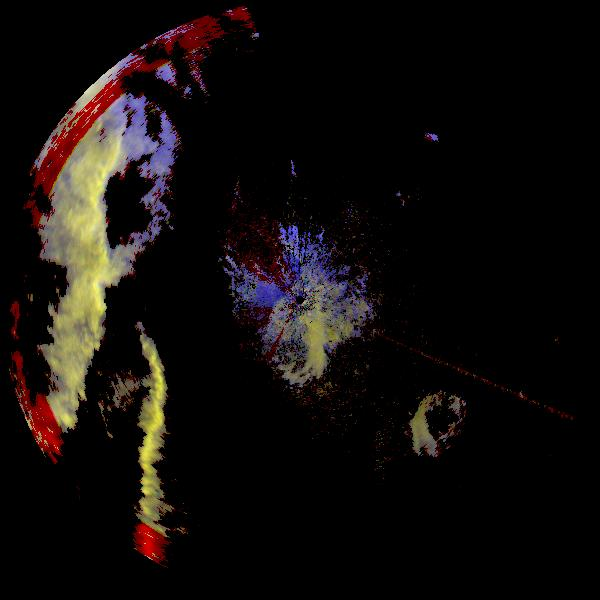roost: (335, 107, 527, 299), (242, 294, 353, 405), (401, 373, 509, 481)
